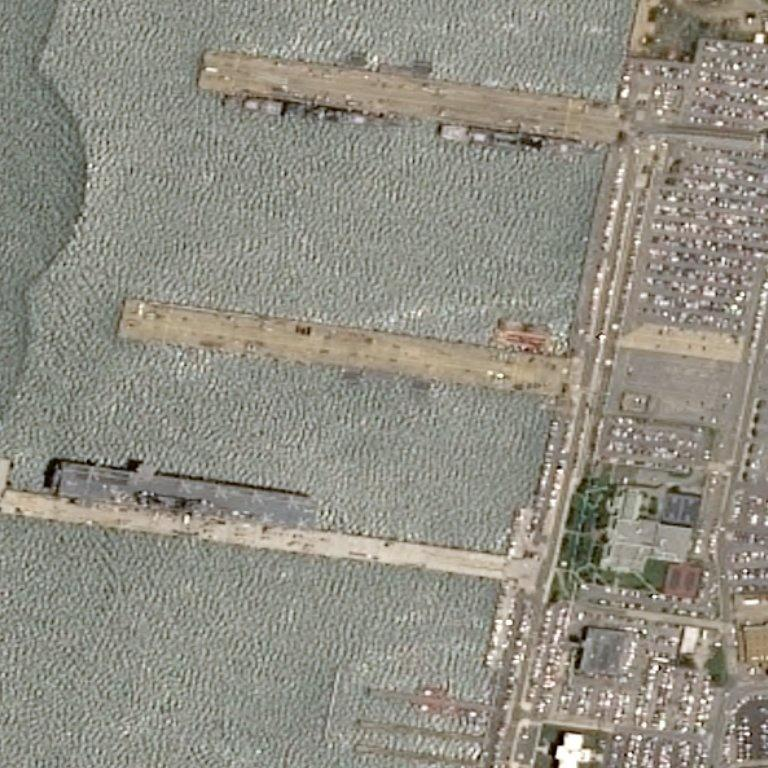ship: (42, 481, 340, 512), (439, 40, 600, 90), (226, 16, 399, 55), (47, 458, 59, 475), (311, 507, 320, 521), (49, 455, 58, 468), (6, 80, 13, 87), (438, 132, 444, 140), (588, 149, 594, 155), (438, 121, 443, 128), (238, 81, 245, 86), (387, 120, 393, 125)
